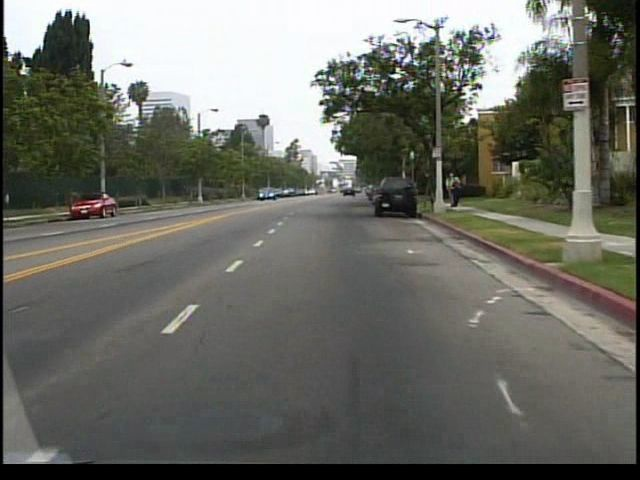person: (445, 169, 461, 210), (451, 173, 464, 207)
